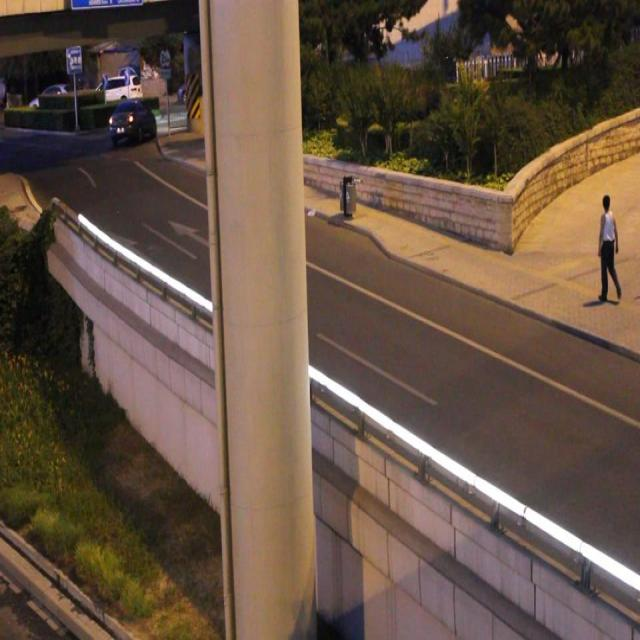car: (110, 102, 156, 139)
